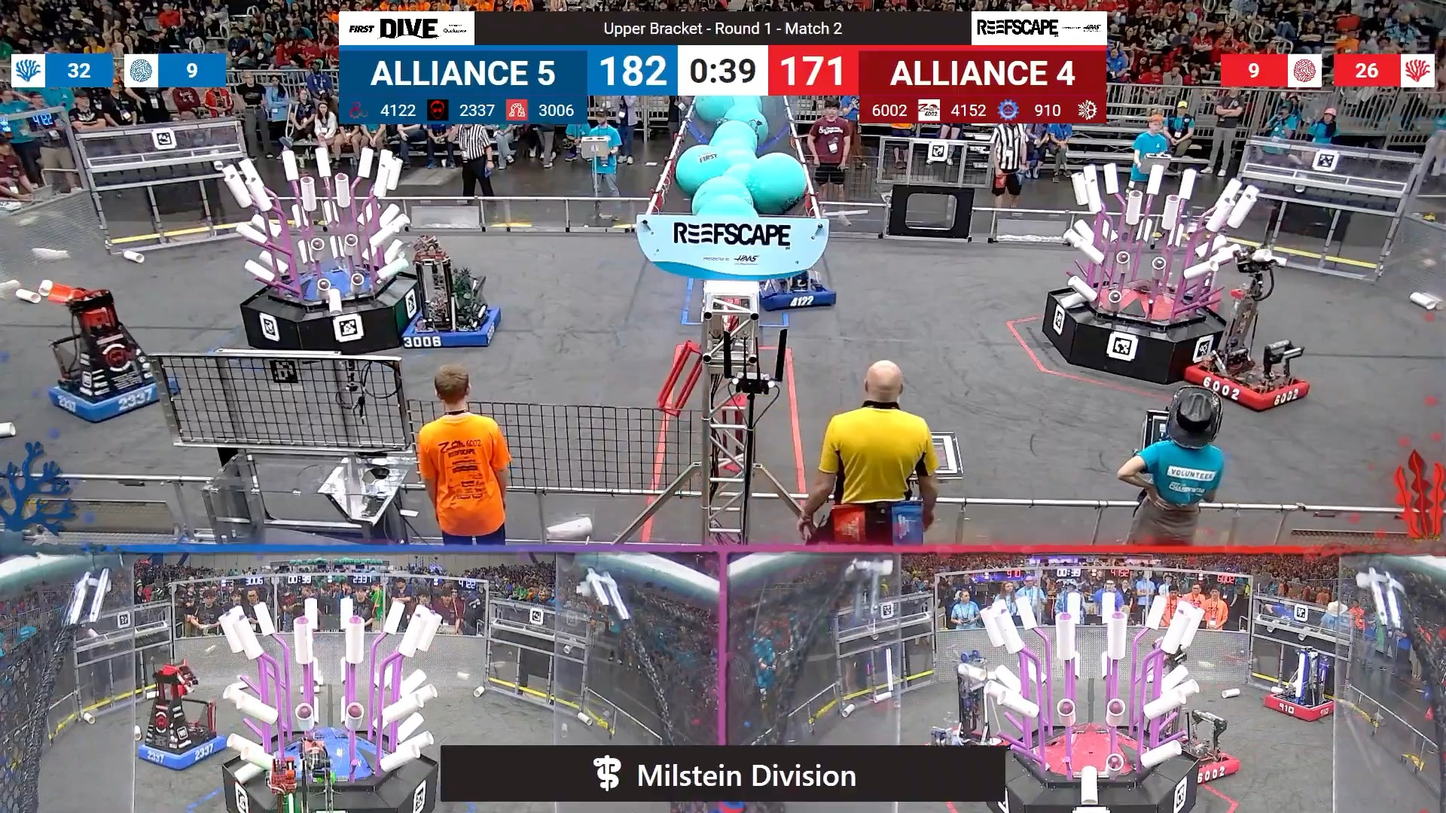bumpers: (1177, 353, 1319, 413), (40, 370, 178, 425), (398, 300, 506, 354), (129, 730, 236, 776), (754, 273, 837, 312), (1257, 690, 1344, 724), (1176, 742, 1246, 784)
